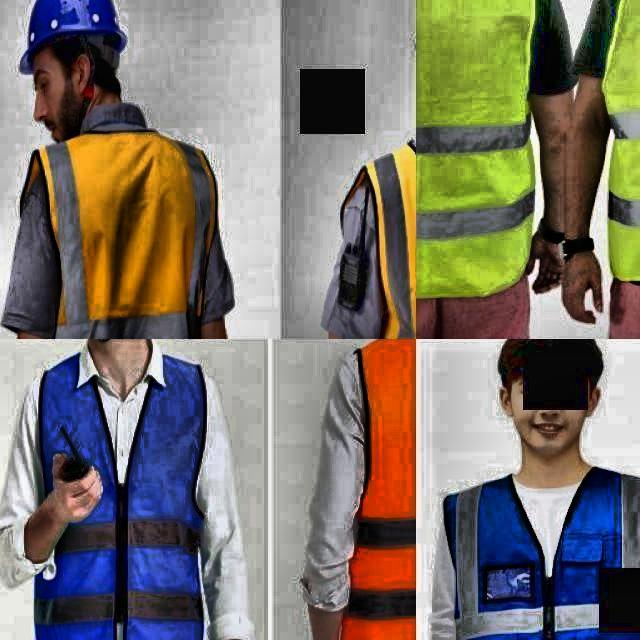safety_jacket: (34, 355, 206, 640), (416, 0, 532, 304), (38, 143, 202, 339), (459, 483, 640, 640), (353, 341, 416, 640)
